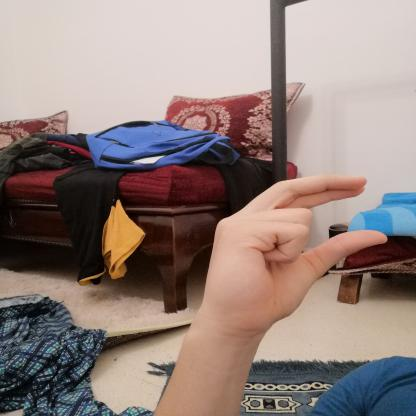DHELL: (192, 164, 396, 343)
